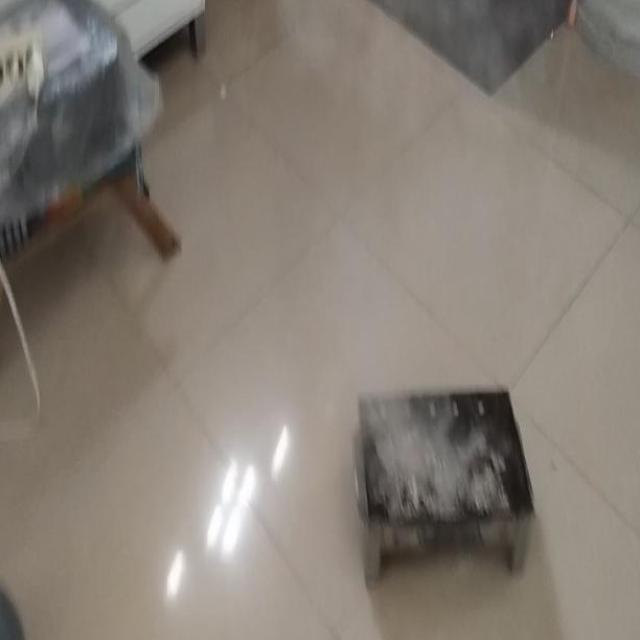fire: (360, 366, 453, 458)
